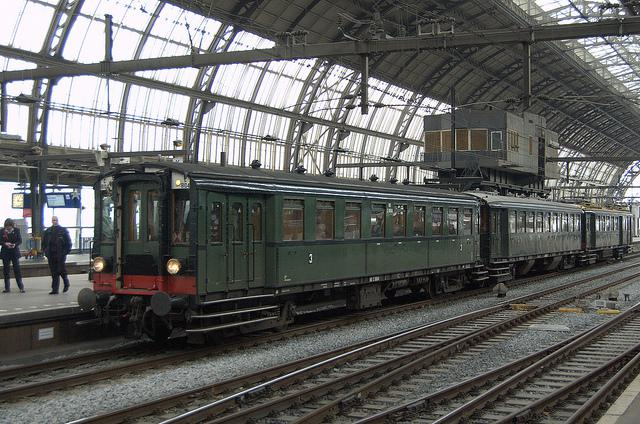Train: (78, 162, 638, 342)
